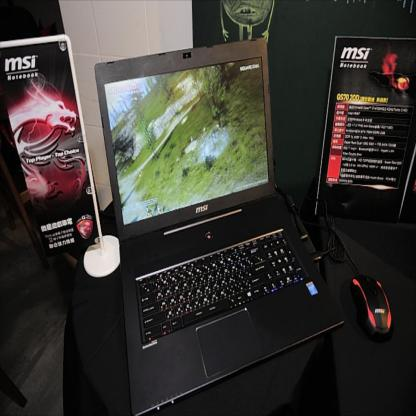board: (94, 40, 344, 416)
